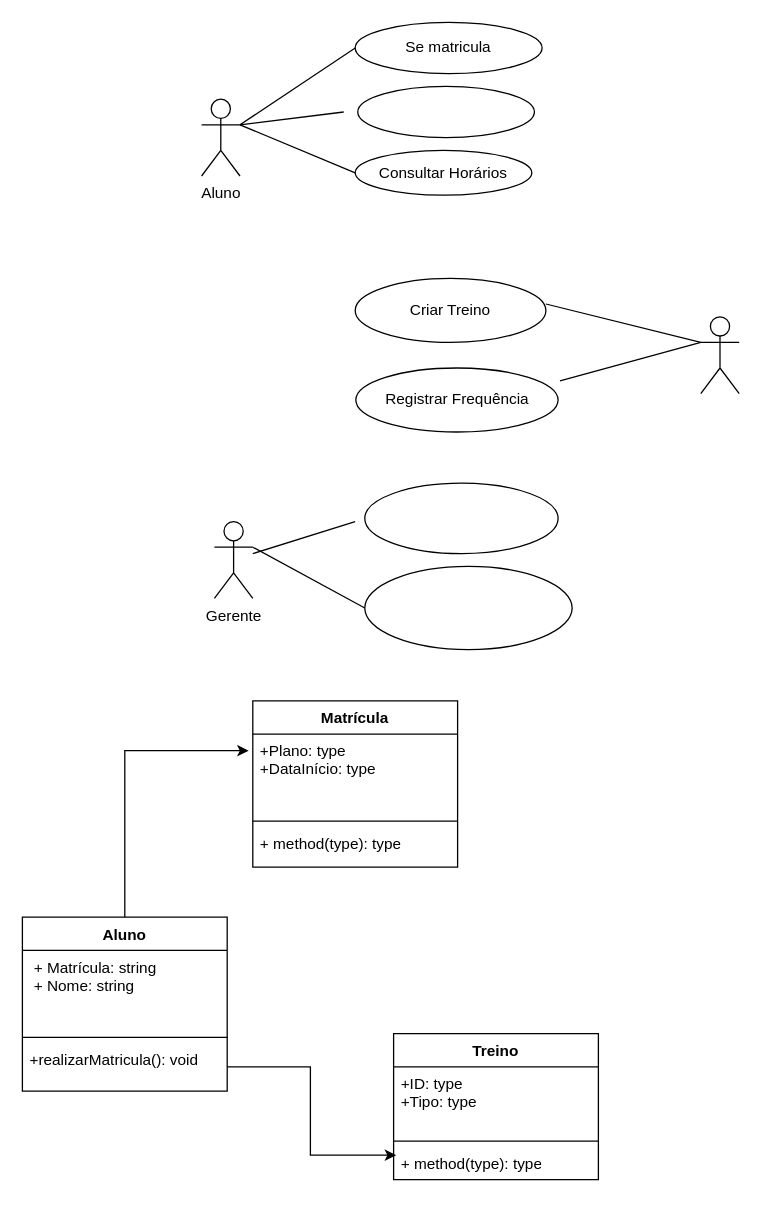
Image size: 771x1206. Some labels were removed from this diagram. The centre of each missing label's shape, as x and y in pixels:
Agendar Aulas: the point at 445,111
Gerenciar Alunos (adicionar, editar, remover): the point at 468,607
Gerenciar Pagamentos: the point at 461,518
Instrutor: the point at 719,355
